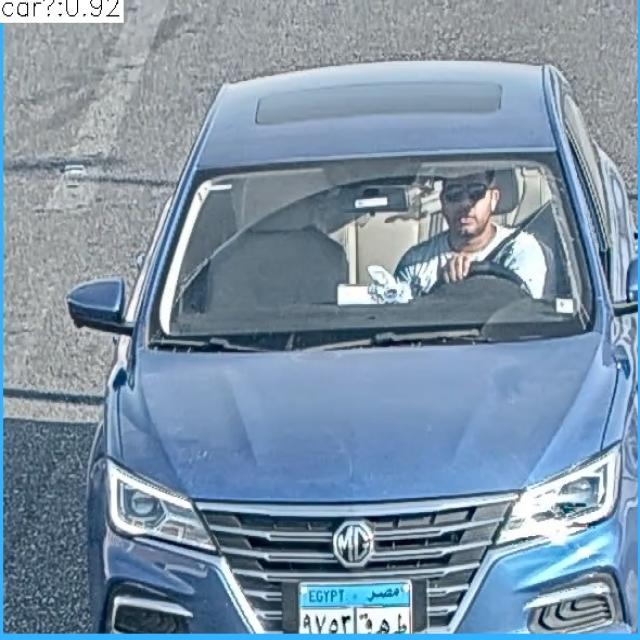windshield: (155, 160, 582, 332)
